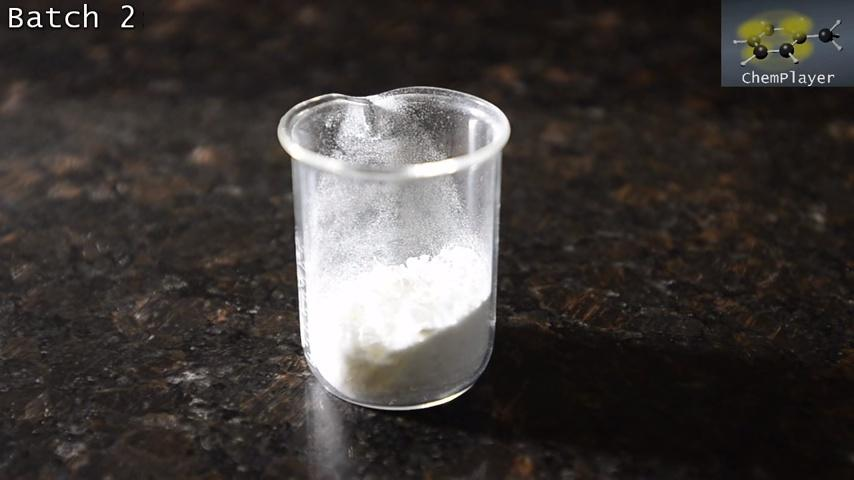Beaker: (282, 74, 520, 413)
